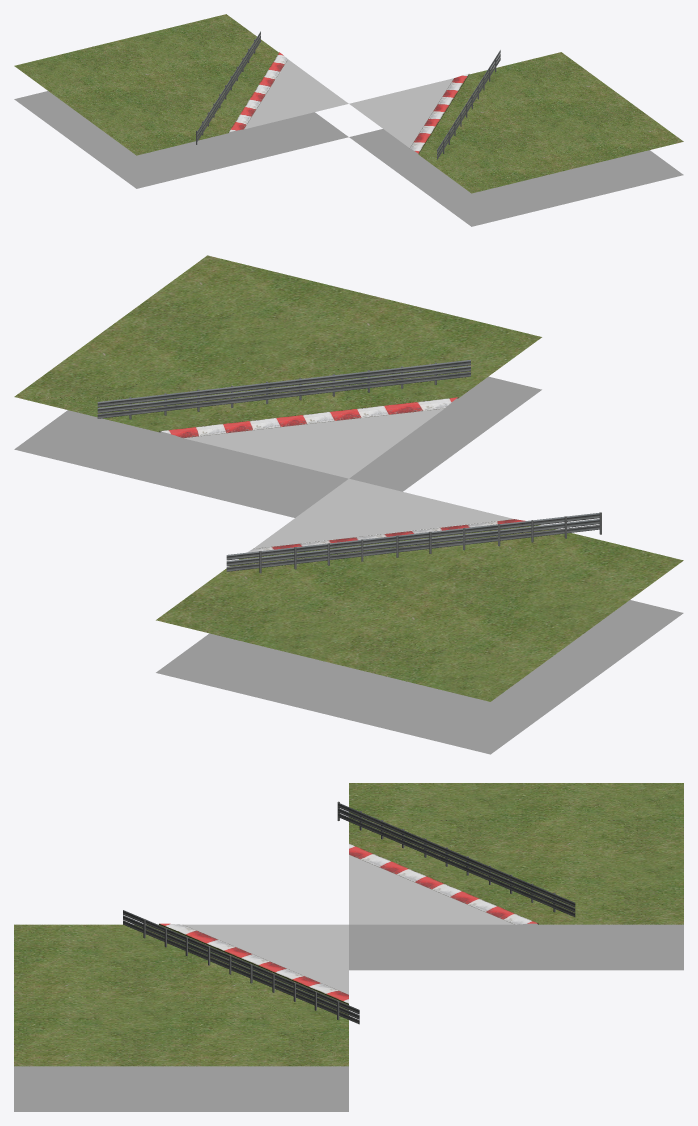
Rendered from Track_Straight_45Degree_Joiner_Mobile.fbx.
3 renders of one model, top to bottom at view 1: azimuth 30°, elevation 25°; view 2: azimuth 150°, elevation 25°; view 3: azimuth 270°, elevation 25°, orthographic. The views are drawn at different scales.
Parts seen in each view (by area): view 1: Grass, Snap_Plane_Invisible_01, Snap_Plane_Invisible_02, Road, Curb_A, Curb_B, Rail_A, Rail_B; view 2: Grass, Snap_Plane_Invisible_02, Snap_Plane_Invisible_01, Road, Rail_A, Rail_B, Curb_B, Curb_A; view 3: Grass, Snap_Plane_Invisible_02, Snap_Plane_Invisible_01, Road, Rail_A, Rail_B, Curb_A, Curb_B.
Part boxes in pixels (x1,y1,x2,y2): Grass: (14,14,683,193); Snap_Plane_Invisible_01: (349,129,683,226); Snap_Plane_Invisible_02: (14,91,348,188); Road: (244,59,453,147); Curb_A: (228,52,287,132); Curb_B: (410,74,469,153); Rail_A: (196,31,260,144); Rail_B: (437,50,500,159); Grass: (14,255,683,701); Snap_Plane_Invisible_02: (156,536,683,754); Snap_Plane_Invisible_01: (14,376,541,517); Road: (184,408,513,548); Rail_A: (226,512,601,573); Rail_B: (97,359,470,419); Curb_B: (159,397,458,438); Curb_A: (247,519,524,552); Grass: (14,783,683,1066); Snap_Plane_Invisible_02: (349,869,683,970); Snap_Plane_Invisible_01: (14,1066,348,1111); Road: (183,855,513,994); Rail_A: (337,801,575,916); Rail_B: (123,910,359,1024); Curb_A: (349,843,538,924); Curb_B: (159,923,348,1004).
Size of the model in its own units: 40 by 4.24 by 40.
